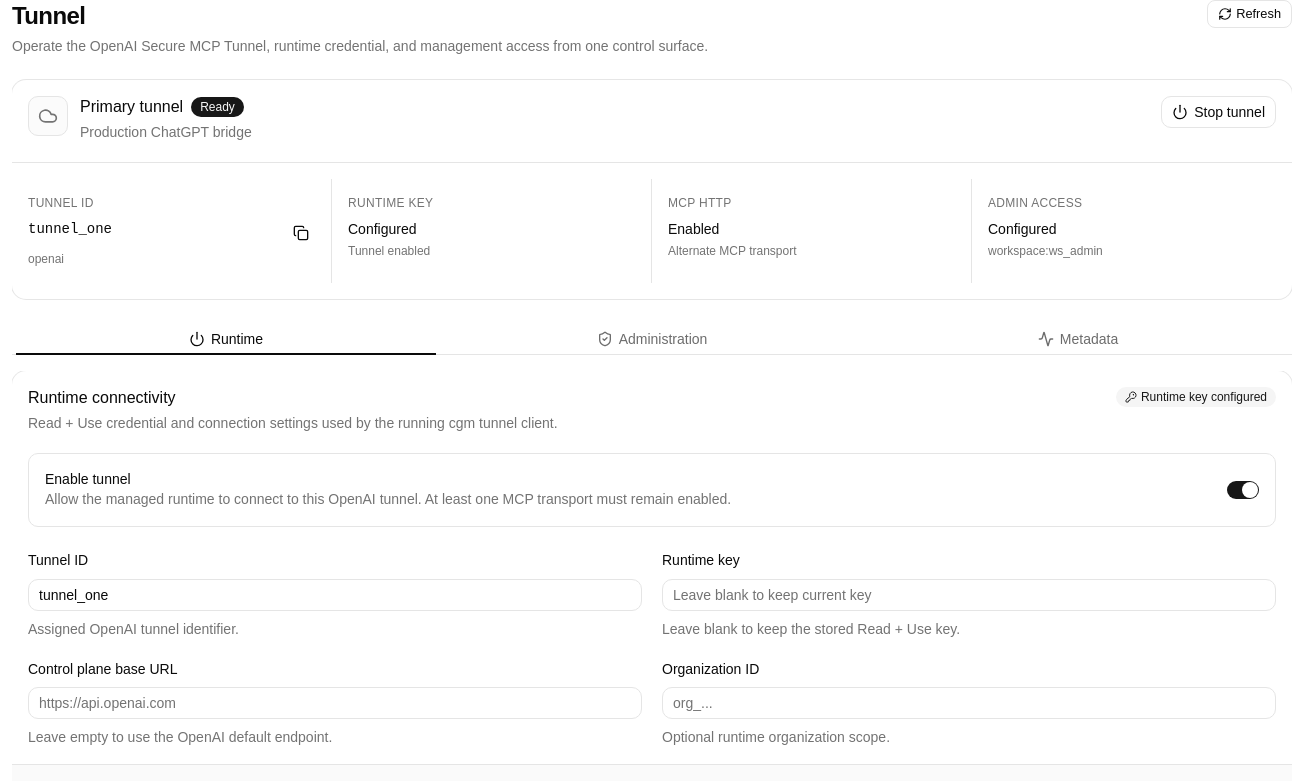
Scenario: TunnelPage › limits a read-only admin key to lookup and use actions
The width and height of the screenshot is (1304, 781).
Click the tab "Administration": x=652, y=338 x1=441 y1=326 x2=863 y2=350
(page scrolled)
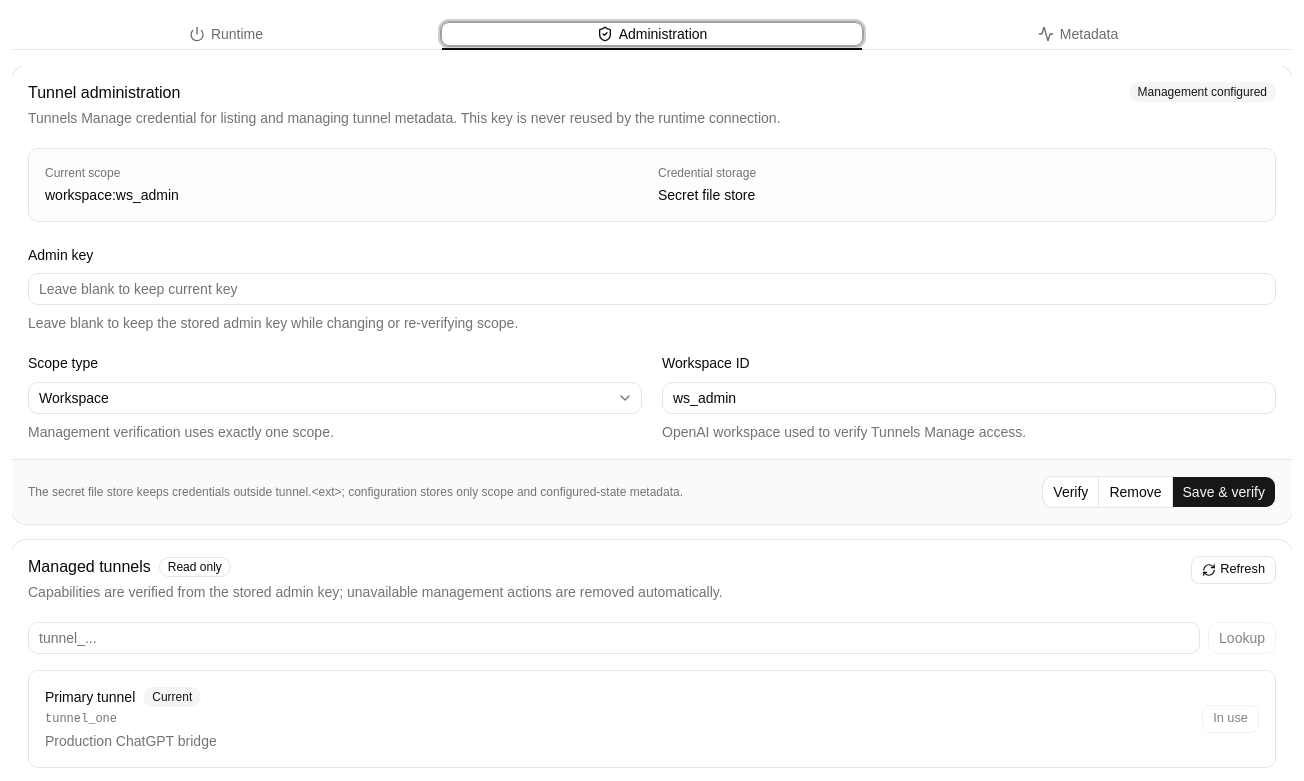
Check: the text "Read only" is shown, box x1=159 y1=556 x2=231 y2=576
Check: the button "Lookup" is disabled, box x1=1208 y1=622 x2=1276 y2=654
